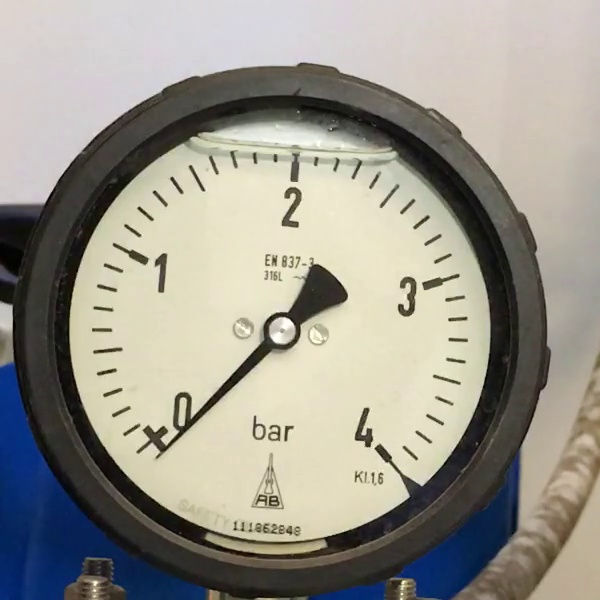base: (263, 312, 300, 350)
circle_plate: (68, 131, 492, 552)
maximum: (372, 443, 392, 462)
minimum: (136, 426, 168, 453)
number: (277, 184, 304, 232), (170, 388, 195, 433), (394, 272, 418, 318), (150, 249, 170, 296), (352, 405, 373, 449)
tip: (152, 454, 159, 463)
